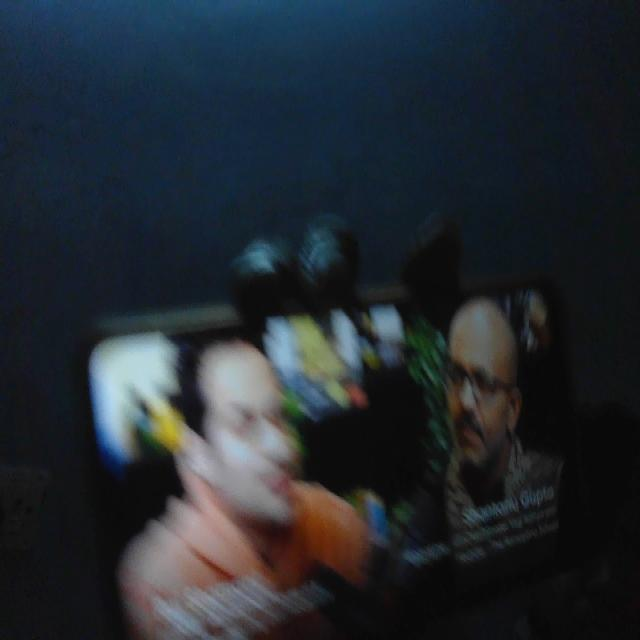fake: (427, 276, 541, 491)
